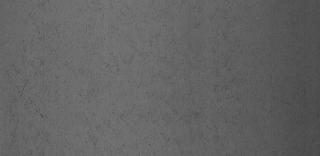silk spot: (88, 22, 255, 136)
